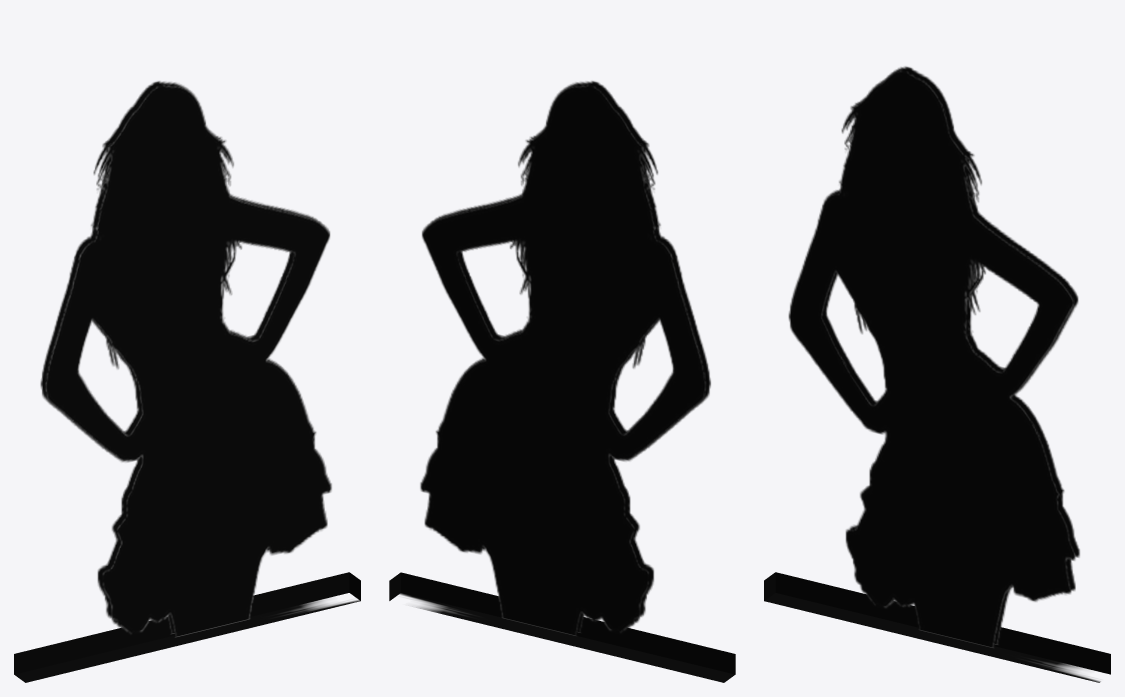
File: target2.glb
3 views of the same model, side by side, from view 1: azimuth 30°, elevation 25°; view 2: azimuth 150°, elevation 25°; view 3: azimuth 330°, elevation 25° (orthographic).
Visible parts, largest first — view 1: target2; view 2: target2; view 3: target2.
Part boxes in pixels (x1,y1,x2,y2): target2: (14, 81, 360, 682); target2: (389, 81, 735, 682); target2: (764, 66, 1110, 682).
Size of what is drawn, in the model's own units: 1.05 by 1.76 by 0.0622.
1 material, 1 textured.
